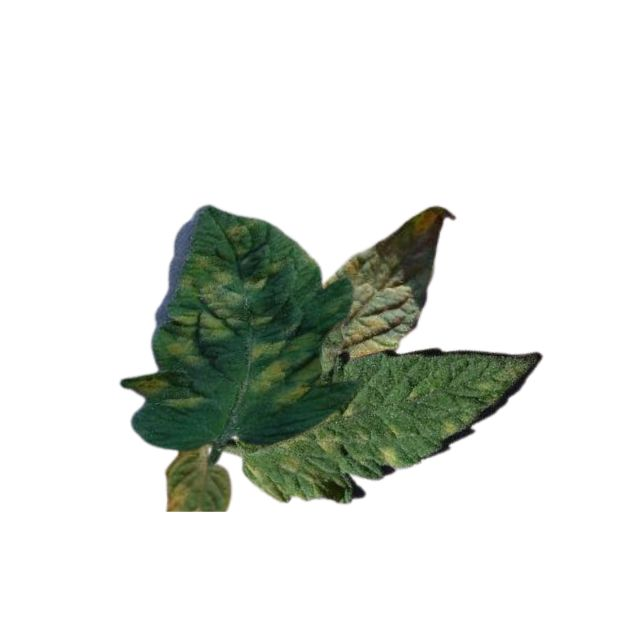Leaf_Mold: (324, 205, 443, 356), (165, 256, 280, 365), (249, 425, 343, 504), (245, 328, 320, 403), (163, 450, 231, 513), (128, 373, 200, 413), (436, 407, 461, 442), (374, 442, 403, 469), (226, 219, 251, 237)
